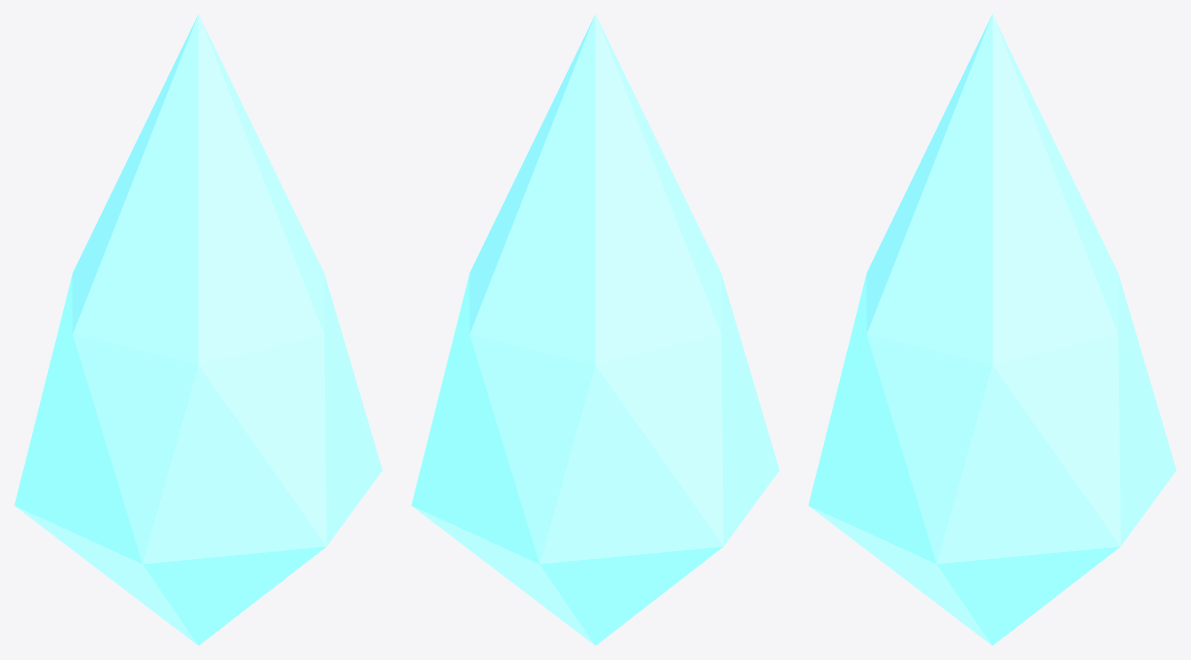
File: relic_crystal.glb
3 renders of one model, left to right at view 1: azimuth 30°, elevation 25°; view 2: azimuth 150°, elevation 25°; view 3: azimuth 270°, elevation 25°, orthographic.
Parts seen in each view (by area): view 1: RelicCrystal; view 2: RelicCrystal; view 3: RelicCrystal.
Part boxes in pixels (<box>): RelicCrystal: <box>14,14,382,645</box>; RelicCrystal: <box>411,14,779,645</box>; RelicCrystal: <box>808,14,1176,645</box>.
Bounding box in the file's own units: 1.24 × 2.4 × 1.27.
